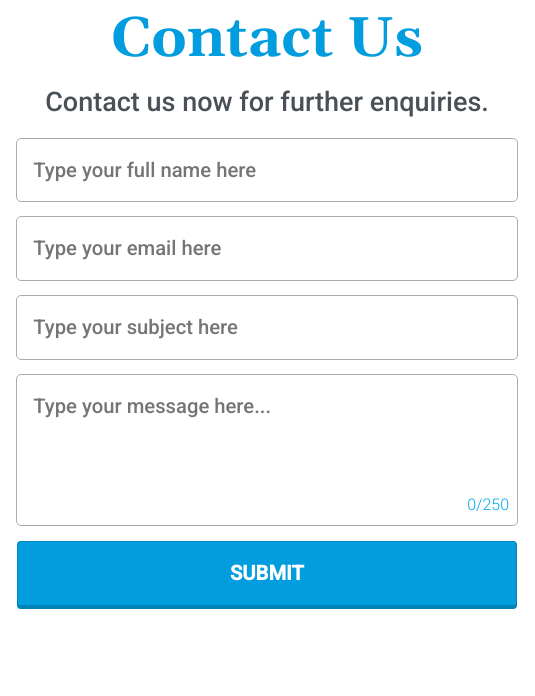
Test case: ContactForm › should show an error message when user submits an empty form
The width and height of the screenshot is (535, 696).
Click the button "Submit": (267,575) [17,541,517,609]
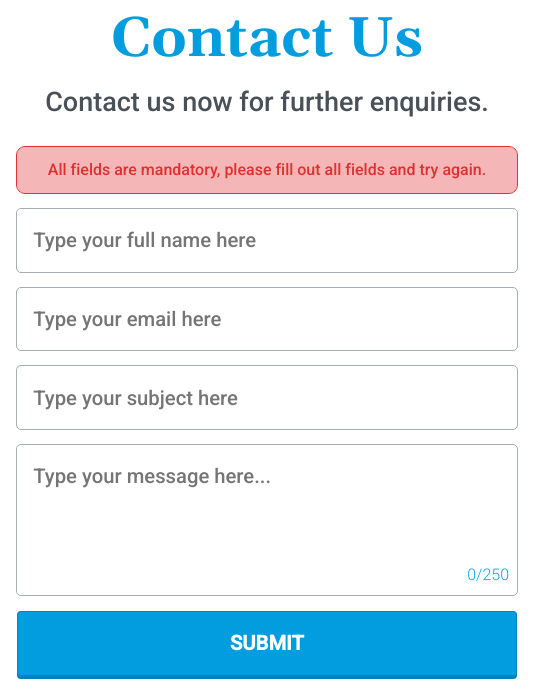
Now the text "All fields are mandatory, please fill out all fields and try again." is shown, box [17,146,517,193]
